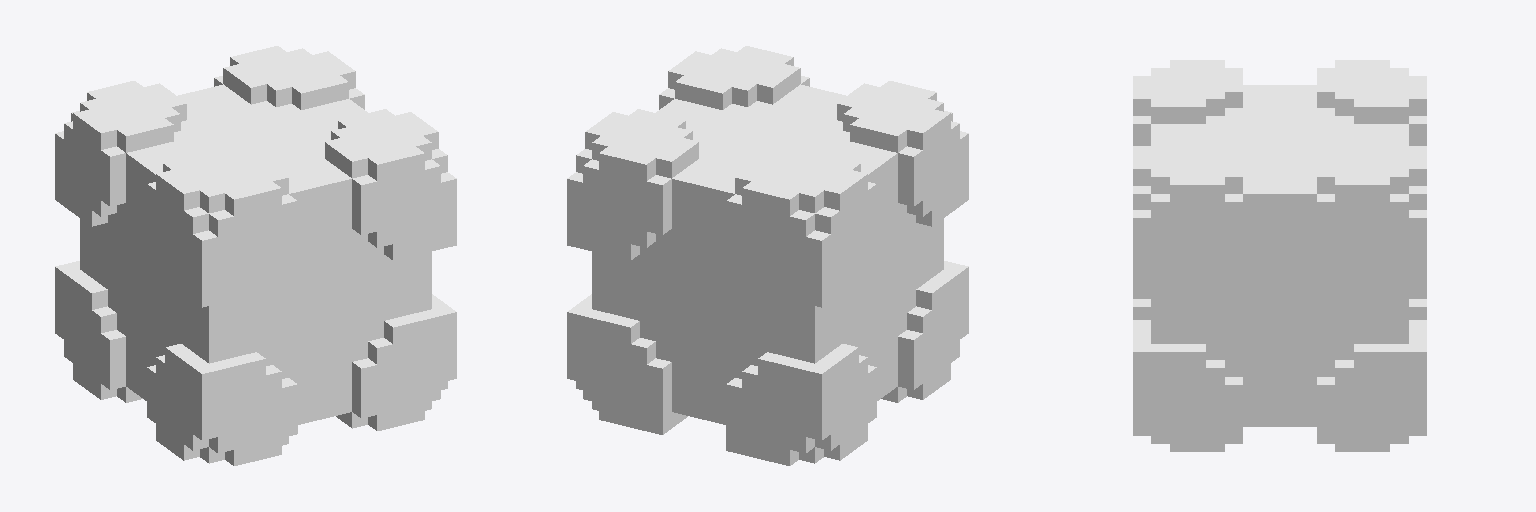
The model's file is tt-companion.obj.
3 views of the same model, side by side, from view 1: azimuth 30°, elevation 25°; view 2: azimuth 150°, elevation 25°; view 3: azimuth 270°, elevation 25° (orthographic).
Bounding box in the file's own units: 16 × 16 × 16.